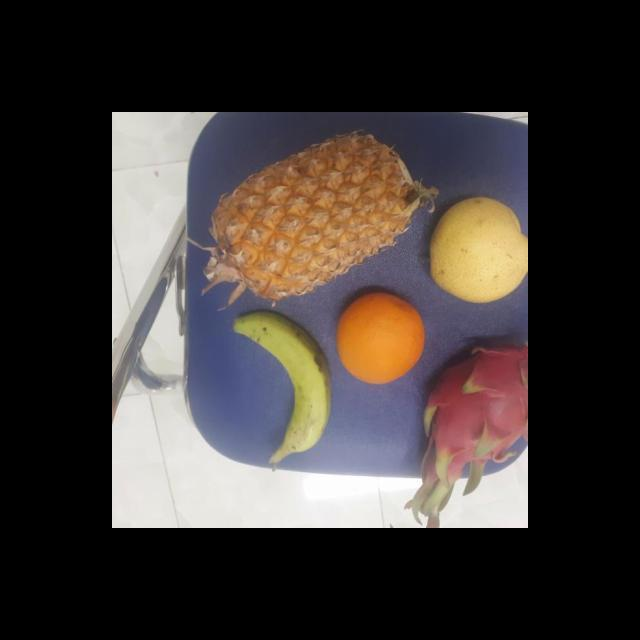banana: (237, 312, 330, 461)
orange: (332, 294, 426, 384)
pear: (421, 197, 528, 302)
pineapple: (200, 134, 422, 306)
pitaya: (414, 334, 528, 482)
